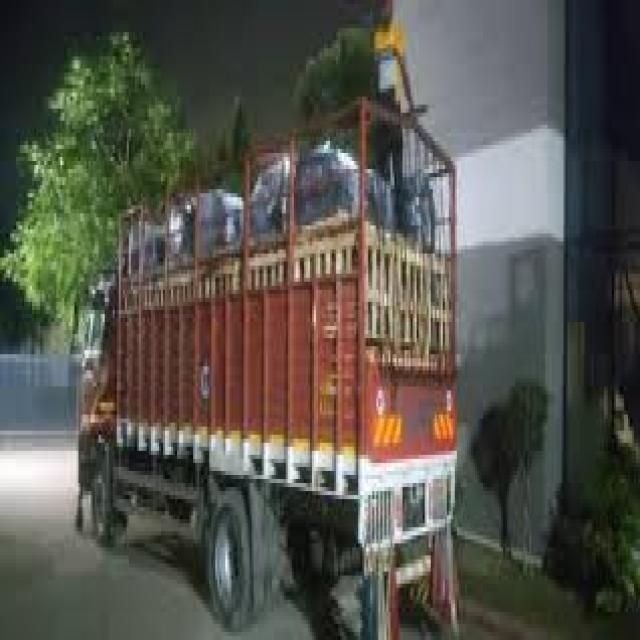uncovered: (75, 102, 458, 632)
